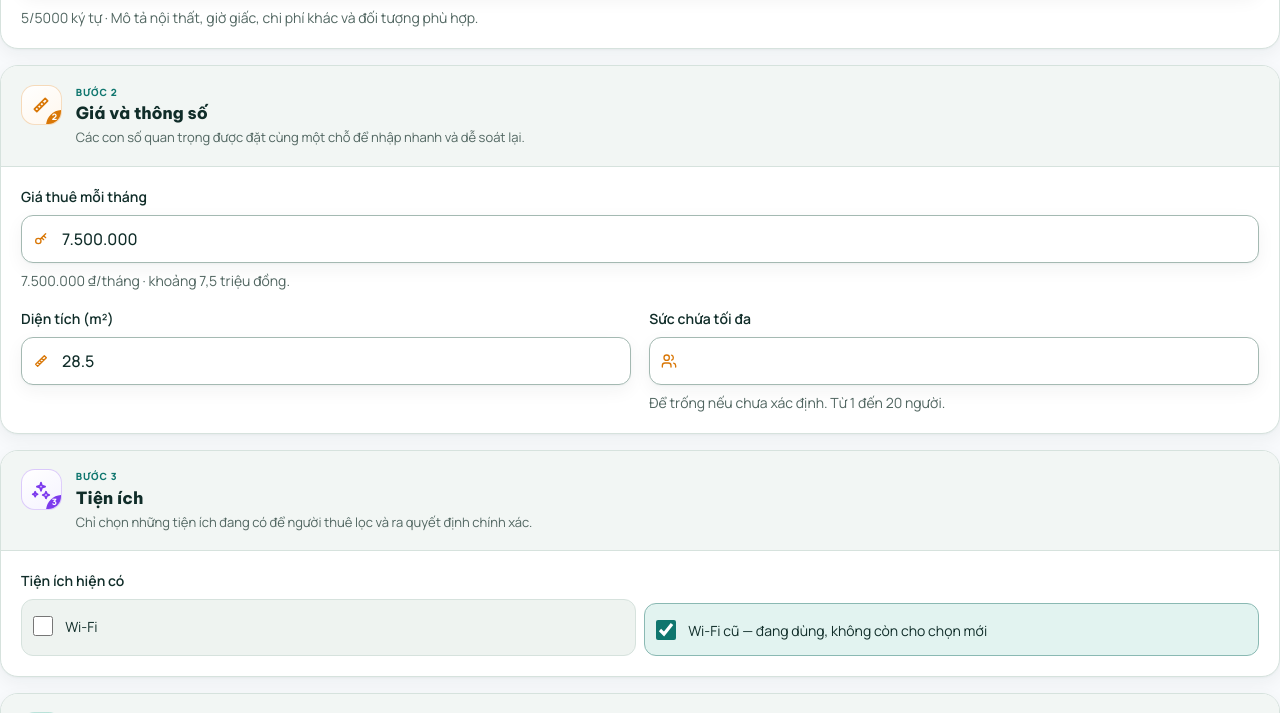
Test: OwnerListingEditor › validates area 0
(page scrolled)
Replace the text in the number field labelled "Diện tích (m²)" with "0". click: (326, 361)
box: [21,337,631,385]
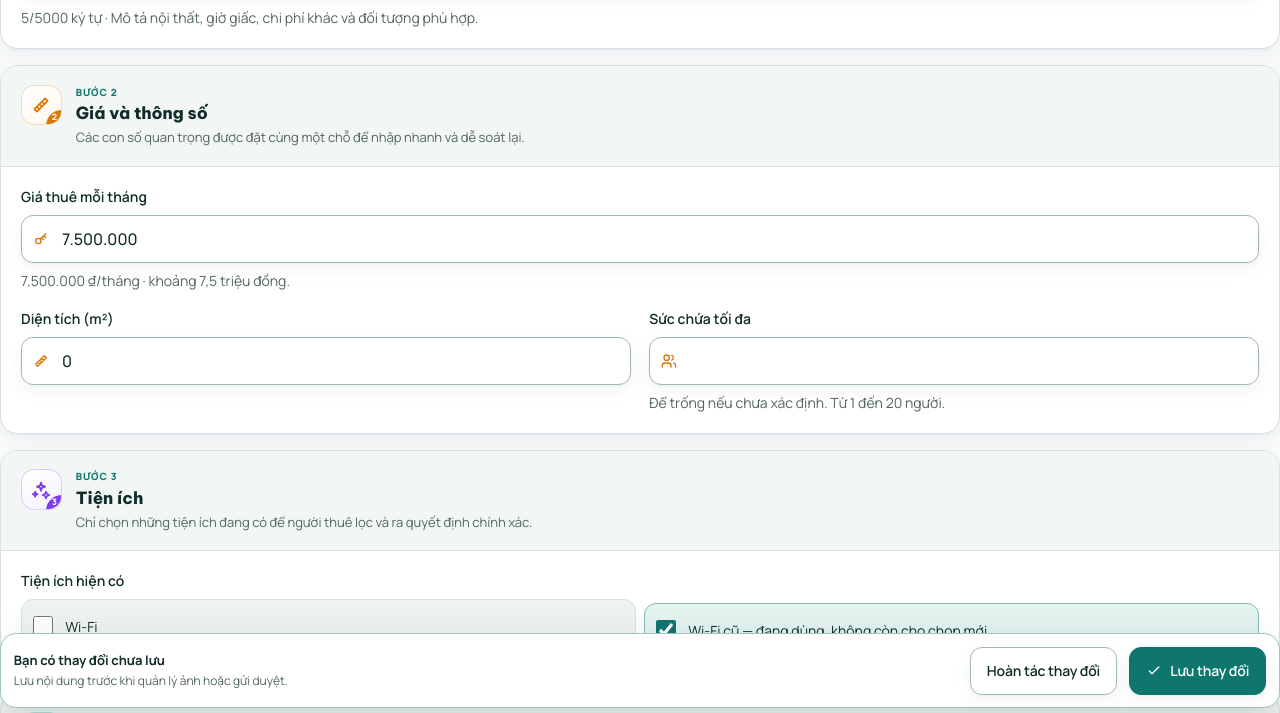
Click the button "Lưu thay đổi". click: (1198, 670)
box: [1129,646,1266,694]
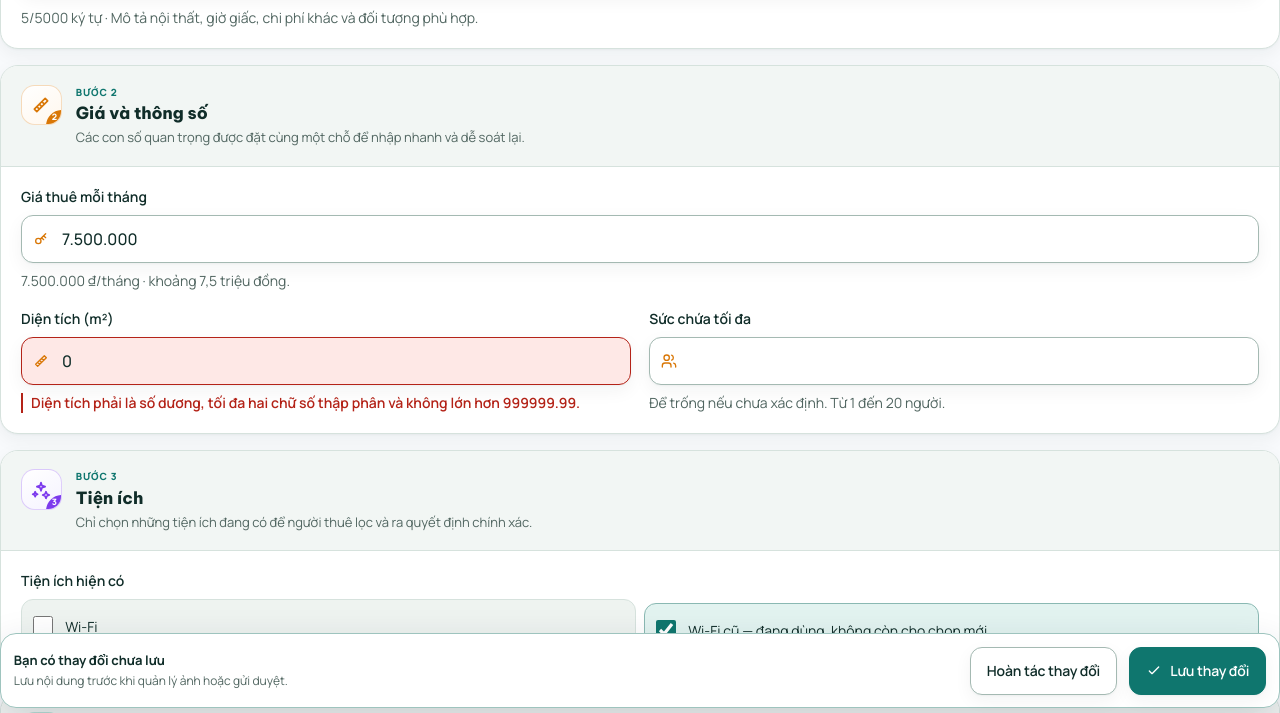
Expected: the text "Diện tích phải là số dương" is shown, [31,393,580,412]
